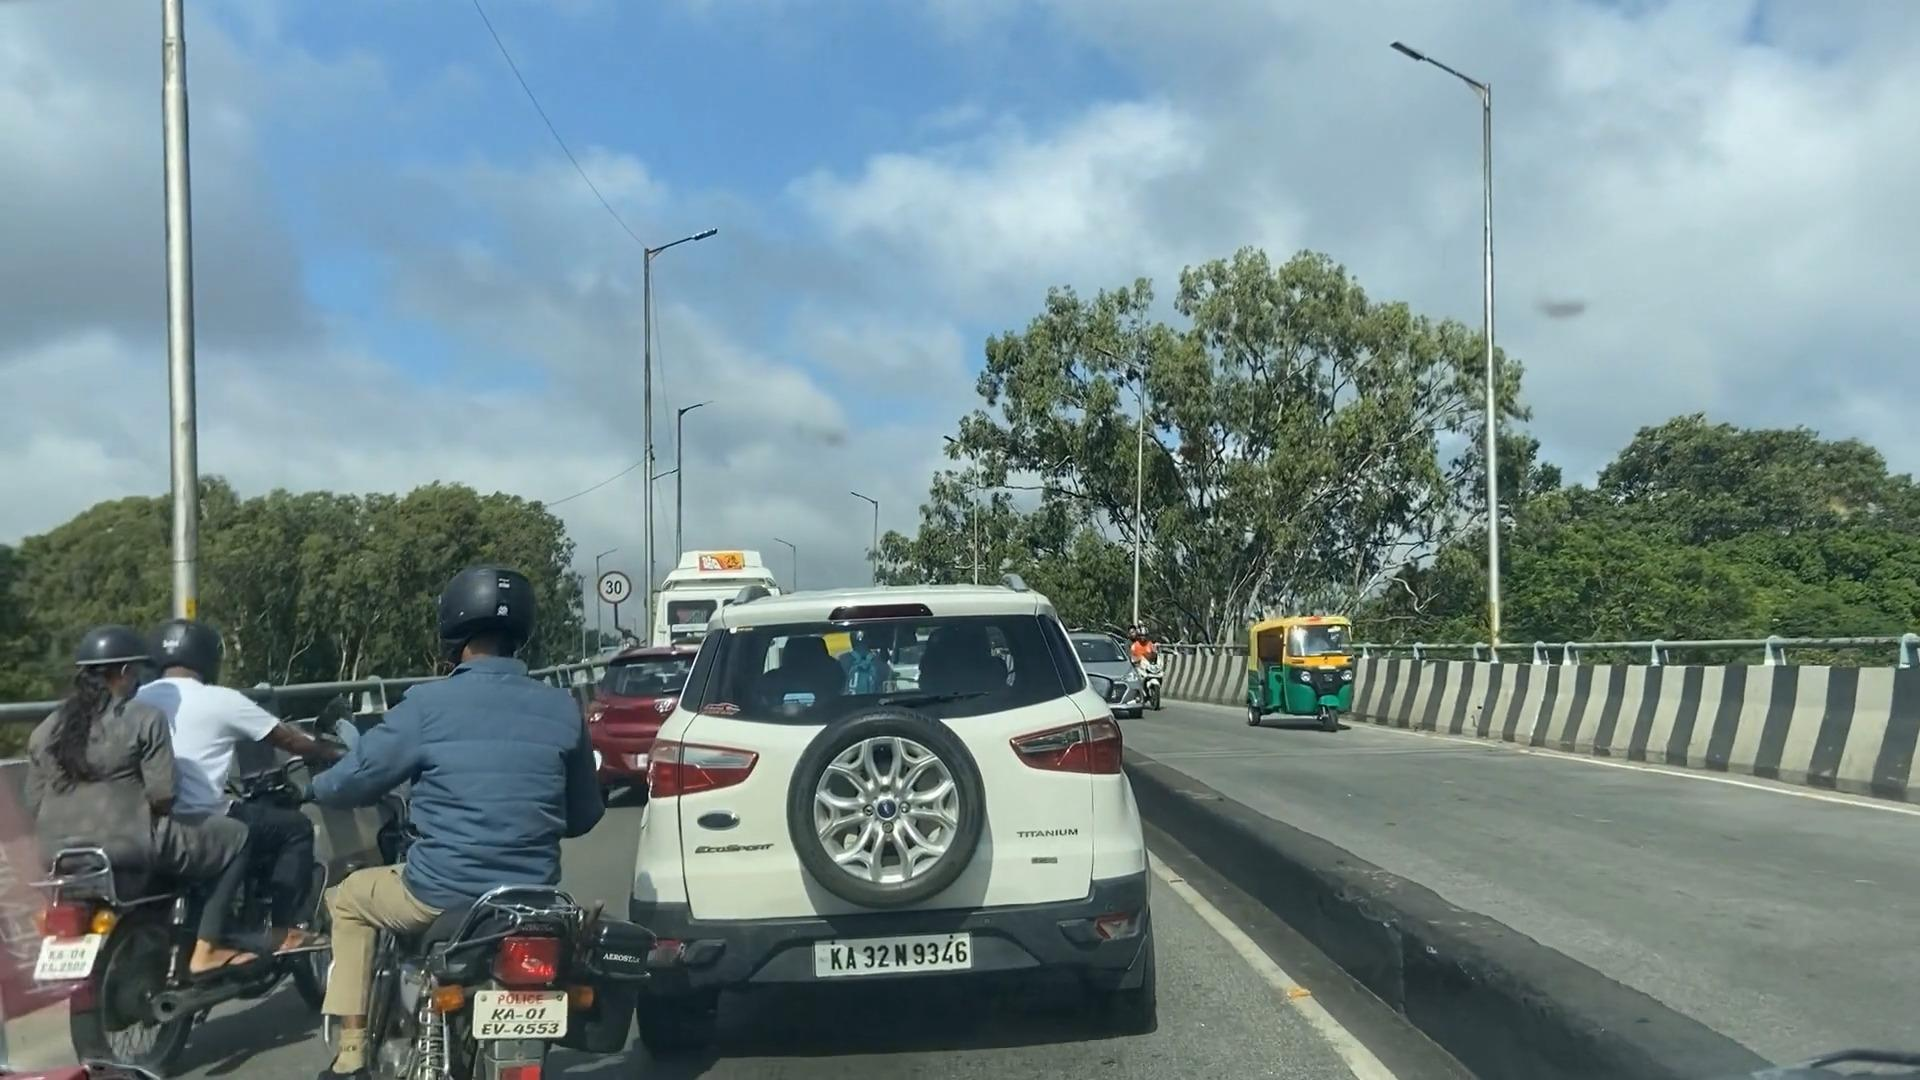LMV: (661, 591, 1125, 1010), (343, 554, 615, 1080)
